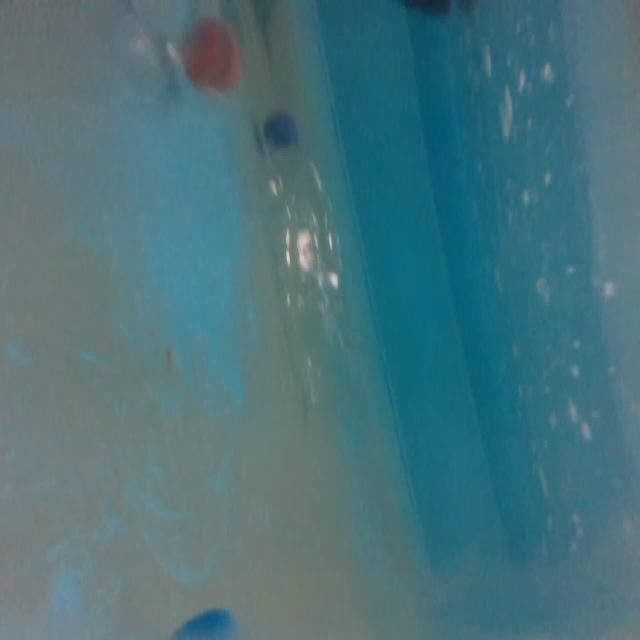plastic bottle: (255, 110, 376, 424)
